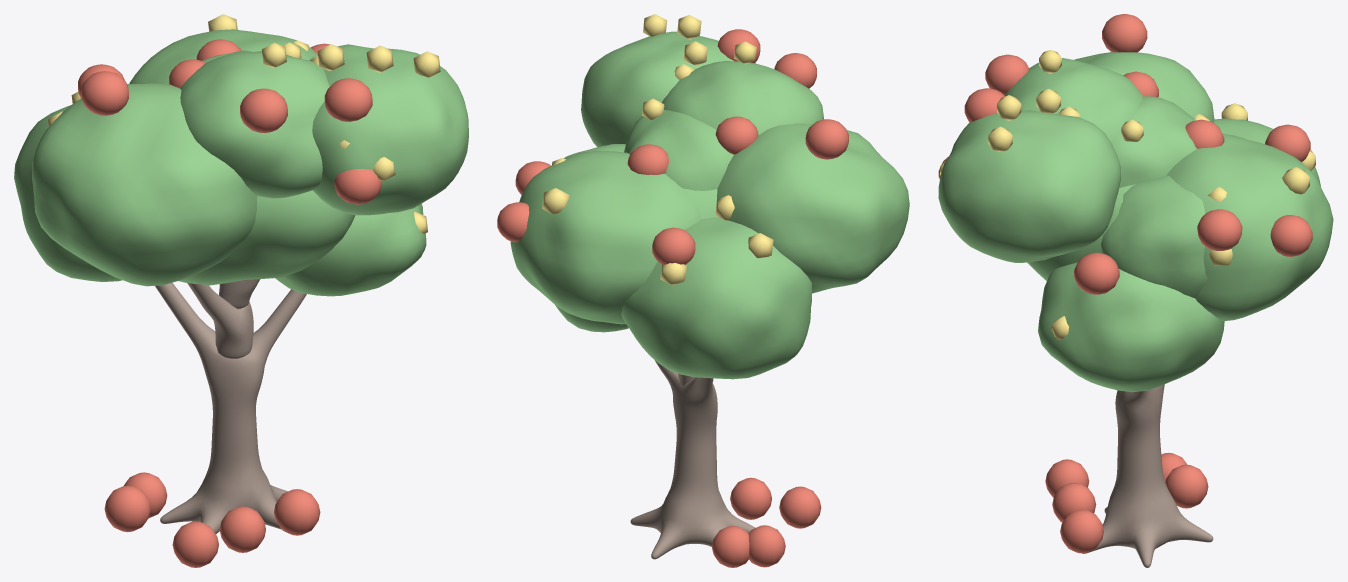
Rendered from tree_grand_1.glb.
3 views of the same model, side by side, from view 1: azimuth 30°, elevation 25°; view 2: azimuth 150°, elevation 25°; view 3: azimuth 270°, elevation 25° (orthographic). The views are drawn at different scales.
Parts seen in each view (by area): view 1: leaf_4, leaf_5, trunk, leaf_6, leaf_0, fallen, leaf_1, blossom, leaf_3, leaf_2, fruit_14, fruit_6 (+4 smaller); view 2: leaf_4, leaf_3, leaf_2, trunk, leaf_5, leaf_6, fallen, leaf_9, blossom, fruit_14, fruit_13, fruit_4 (+7 smaller); view 3: leaf_5, leaf_2, leaf_1, trunk, leaf_7, leaf_6, fallen, leaf_9, blossom, leaf_4, fruit_11, fruit_2 (+9 smaller).
Part boxes in pixels (x1,y1,x2,y2): leaf_4: [32, 83, 257, 286]; leaf_5: [312, 44, 468, 215]; trunk: [155, 279, 306, 533]; leaf_6: [180, 51, 329, 198]; leaf_0: [179, 190, 354, 285]; fallen: [104, 472, 320, 567]; leaf_1: [275, 203, 426, 296]; blossom: [48, 14, 440, 233]; leaf_3: [14, 105, 122, 281]; leaf_2: [129, 29, 317, 83]; fruit_14: [81, 71, 128, 115]; fruit_6: [240, 88, 287, 132]; leaf_4: [717, 123, 909, 293]; leaf_3: [621, 217, 811, 379]; leaf_2: [510, 150, 701, 324]; trunk: [630, 360, 755, 559]; leaf_5: [581, 31, 755, 147]; leaf_6: [661, 61, 823, 135]; fallen: [712, 477, 821, 567]; leaf_9: [624, 110, 733, 190]; blossom: [542, 14, 773, 285]; fruit_14: [805, 119, 848, 159]; fruit_13: [652, 227, 695, 264]; fruit_4: [715, 116, 758, 154]; leaf_5: [938, 110, 1120, 262]; leaf_2: [1166, 134, 1333, 320]; leaf_1: [1038, 262, 1224, 392]; trunk: [1082, 384, 1213, 567]; leaf_7: [1101, 175, 1207, 297]; leaf_6: [1004, 58, 1143, 141]; fallen: [1045, 452, 1208, 553]; leaf_9: [1111, 96, 1196, 188]; blossom: [940, 50, 1315, 339]; leaf_4: [1074, 52, 1214, 122]; fruit_11: [1074, 252, 1119, 294]; fruit_2: [1197, 209, 1242, 250].
Size of the model in its own units: 3.53 by 4.63 by 3.42.
